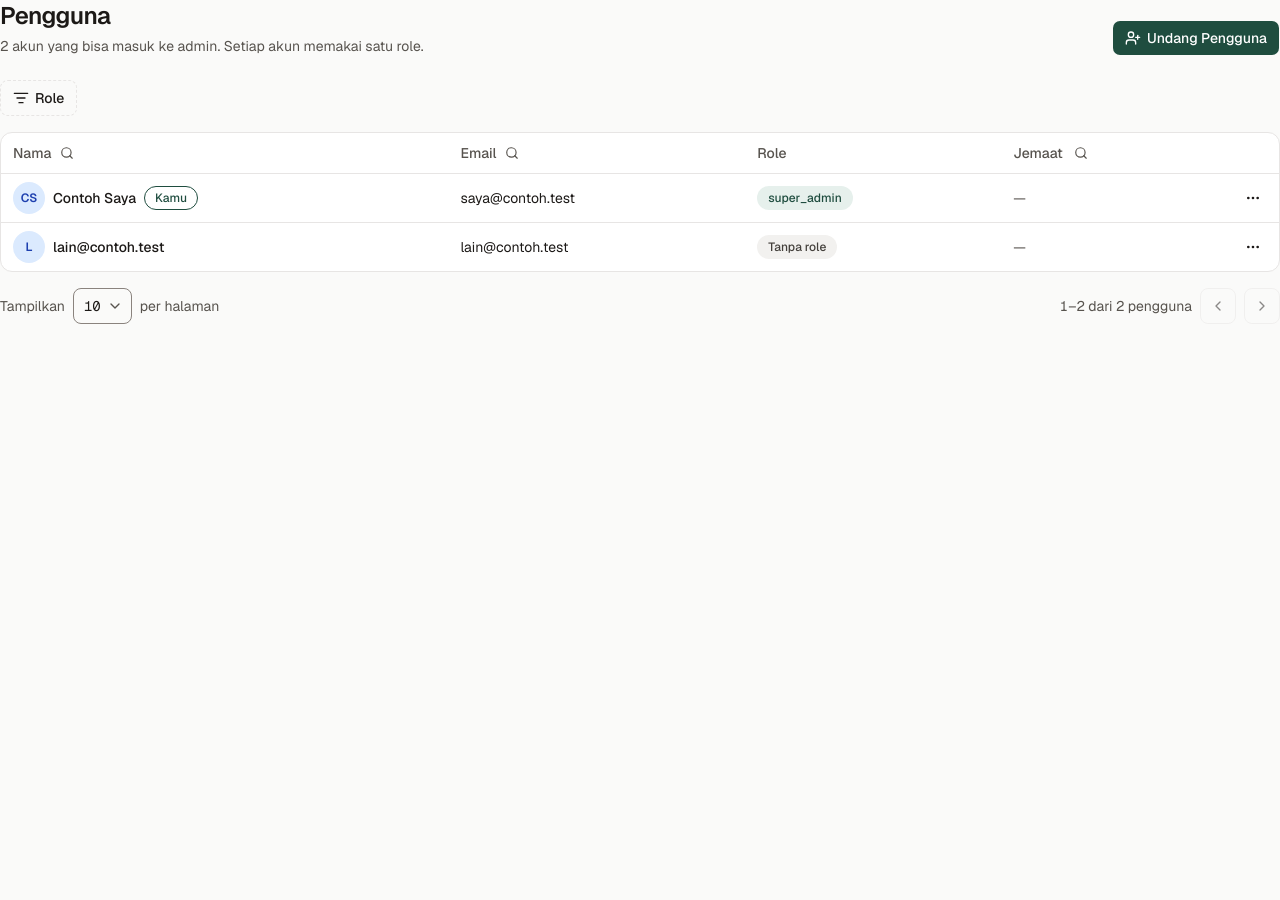
Test: UsersManager › offers "Hapus" on other rows but never on your own (brief §9.11)
Click the button named "Aksi untuk Contoh Saya".
click(1253, 198)  # box [1239,184,1267,212]
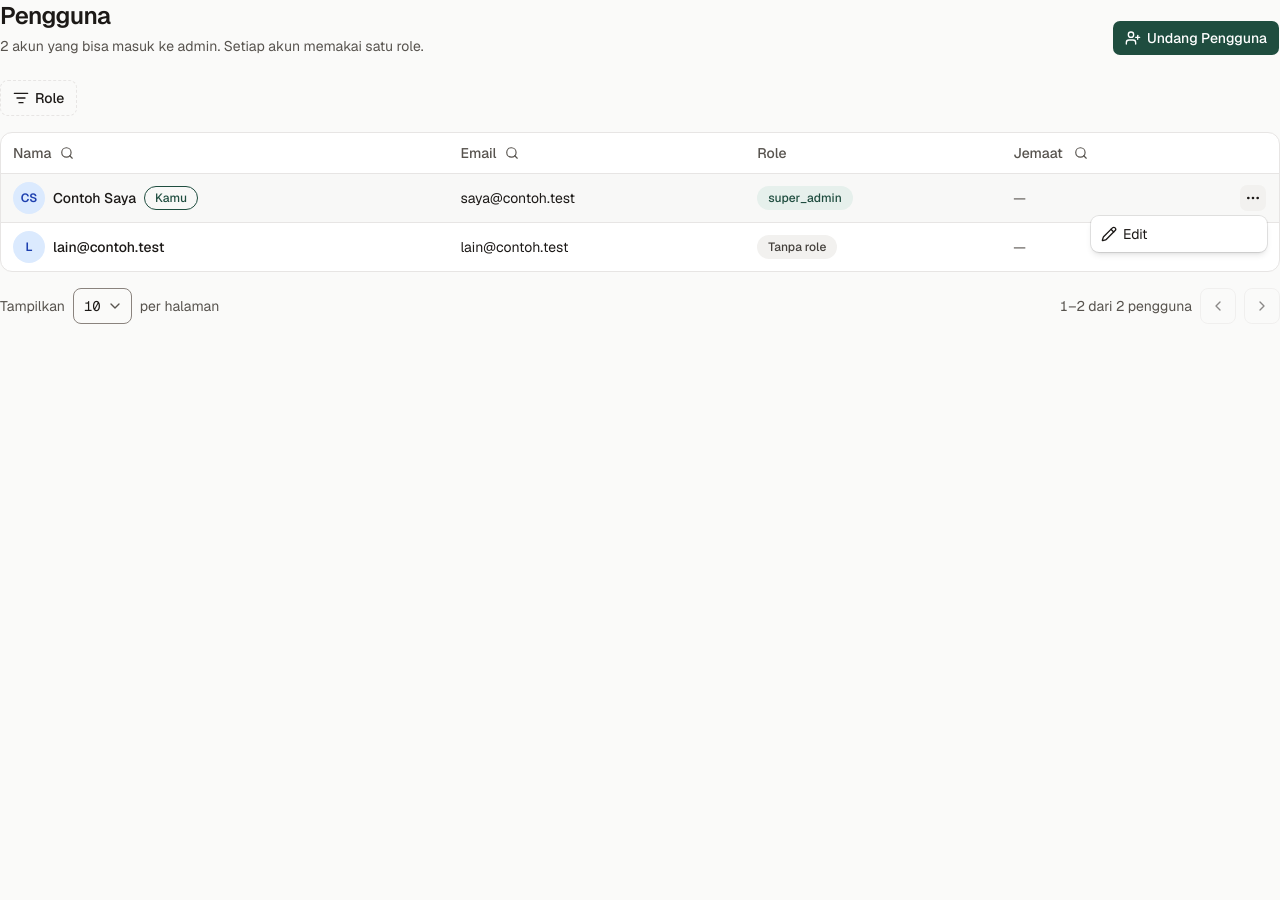
expect the menu item "Hapus" is not shown: met
expect the menu item "Edit" is shown: met, box [1101,225,1148,243]
Press Escape
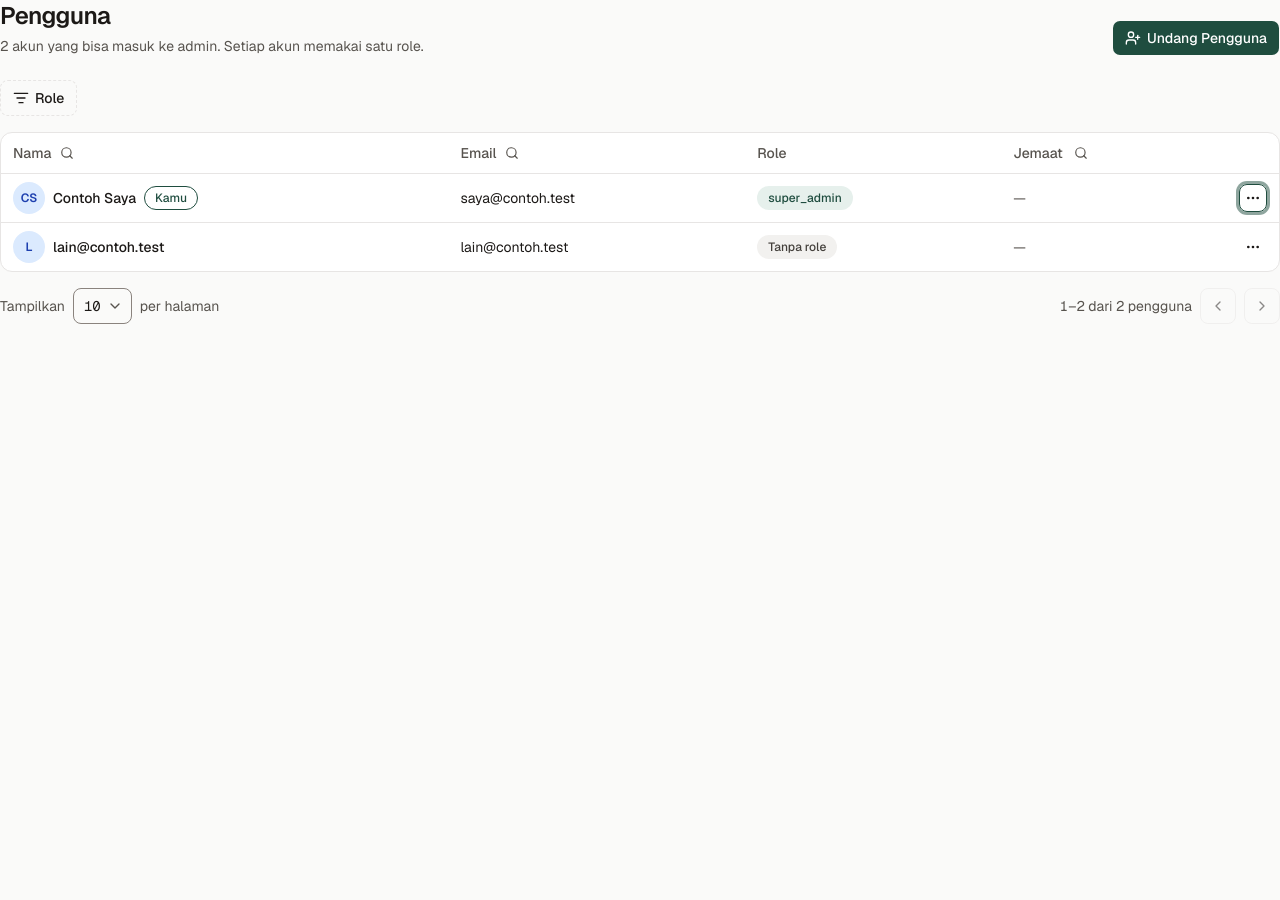
Click the button named "Aksi untuk lain@contoh.test".
click(1253, 246)  # box [1239,232,1267,260]
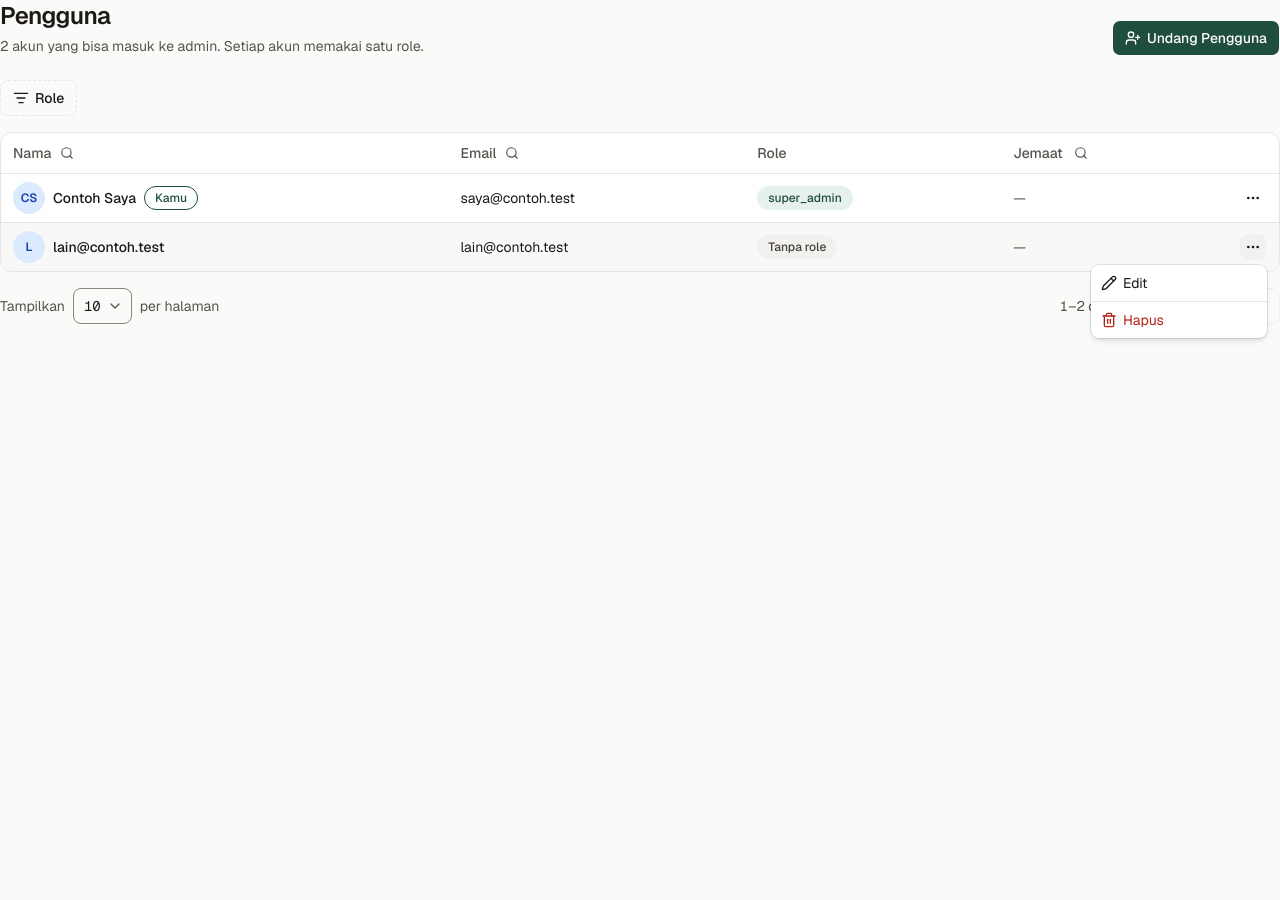
Click the menu item "Hapus".
click(1132, 320)  # box [1101,311,1164,329]
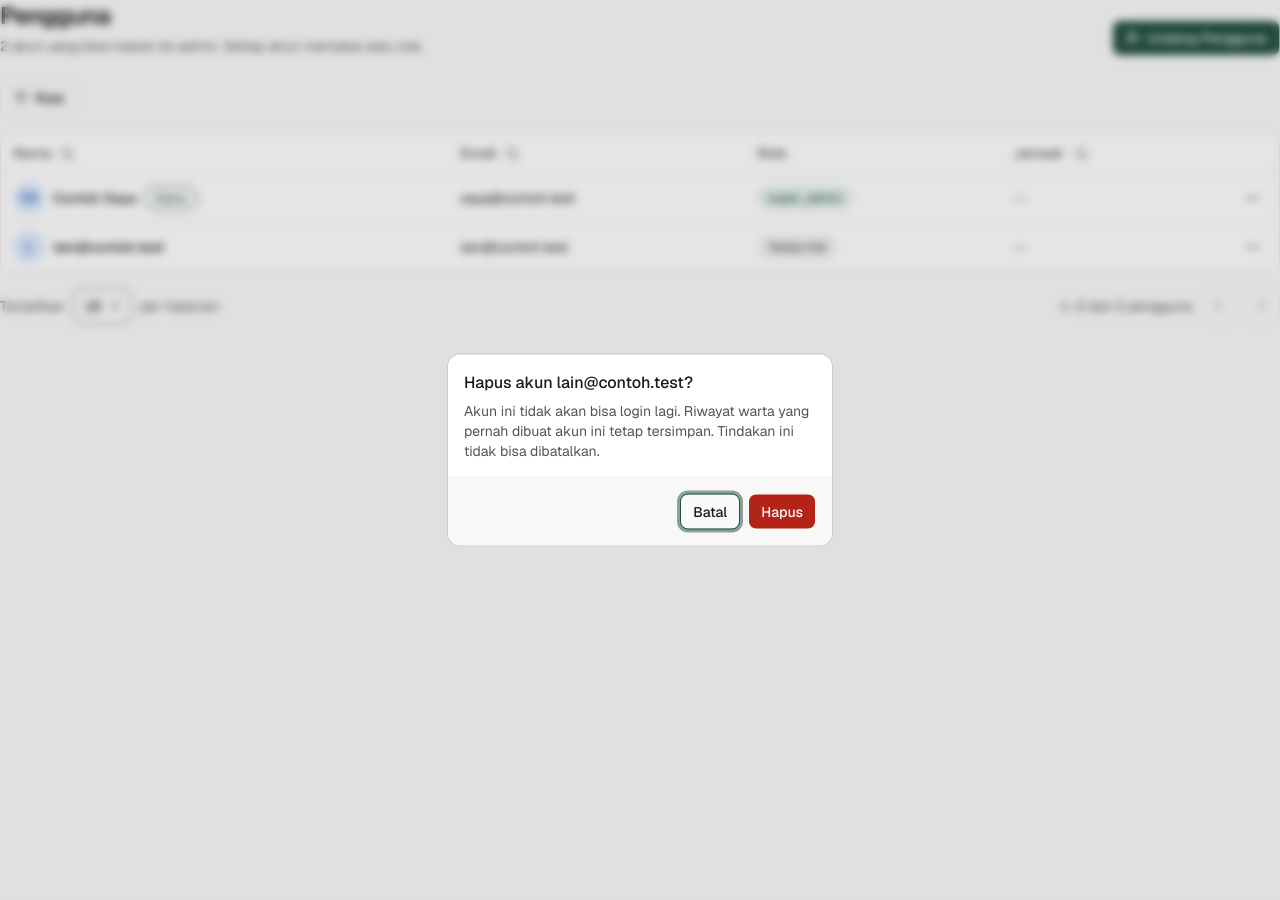
expect the dialog "Hapus akun lain@contoh.test?" shows "Akun ini tidak akan bisa login lagi.": met, box [464,402,809,460]
